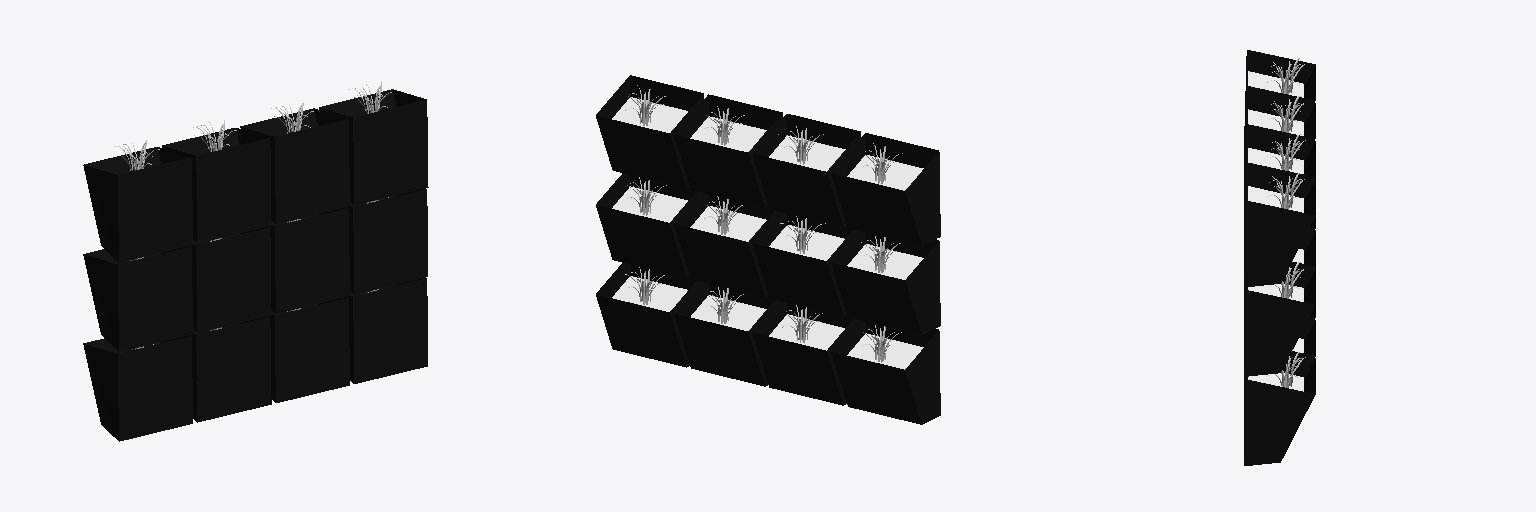
Rendered from plantebakken-met-gras.obj.
3 views of the same model, side by side, from view 1: azimuth 30°, elevation 25°; view 2: azimuth 150°, elevation 25°; view 3: azimuth 270°, elevation 25° (orthographic).
Visible parts, largest first — view 1: bin_8, bin, bin_4, bin_10, bin_9, bin_11, bin_6, bin_1, bin_2, bin_5, bin_3, bin_7; view 2: bin_8, bin, bin_4, bin_10, bin_9, bin_11, bin_3, bin_6, bin_2, bin_7, bin_1, bin_5 (+12 smaller); view 3: bin_11, bin_3, bin_7, bin_10, bin_9, bin_8, earth_11, earth_8, earth_10, earth_9, bin_2, bin_6.
Boxes of the visible parts, box(x1,y1,x2,y2) form: bin_8: box(83, 147, 192, 262); bin: box(83, 335, 192, 441); bin_4: box(83, 246, 192, 351); bin_10: box(240, 108, 349, 224); bin_9: box(162, 128, 271, 243); bin_11: box(319, 89, 428, 205); bin_6: box(269, 208, 349, 313); bin_1: box(191, 316, 271, 422); bin_2: box(270, 297, 349, 402); bin_5: box(191, 227, 271, 332); bin_3: box(348, 278, 427, 383); bin_7: box(347, 188, 427, 294); bin_8: box(831, 133, 940, 245); bin: box(831, 320, 940, 424); bin_4: box(831, 231, 940, 334); bin_10: box(674, 94, 782, 207); bin_9: box(753, 114, 860, 226); bin_11: box(596, 75, 703, 188); bin_3: box(596, 263, 699, 367); bin_6: box(674, 192, 779, 296); bin_2: box(674, 282, 778, 386); bin_7: box(596, 173, 700, 277); bin_1: box(752, 301, 857, 405); bin_5: box(753, 212, 857, 315); bin_11: box(1244, 165, 1315, 287); bin_3: box(1244, 353, 1315, 465); bin_7: box(1244, 263, 1315, 376); bin_10: box(1244, 126, 1315, 240); bin_9: box(1244, 88, 1315, 201); bin_8: box(1244, 50, 1315, 163); earth_11: box(1248, 186, 1303, 212); earth_8: box(1248, 71, 1303, 97); earth_10: box(1248, 148, 1303, 173); earth_9: box(1248, 109, 1303, 135); bin_2: box(1244, 318, 1315, 418); bin_6: box(1244, 229, 1315, 329).
Size of the model in its own units: 836 by 696 by 167.